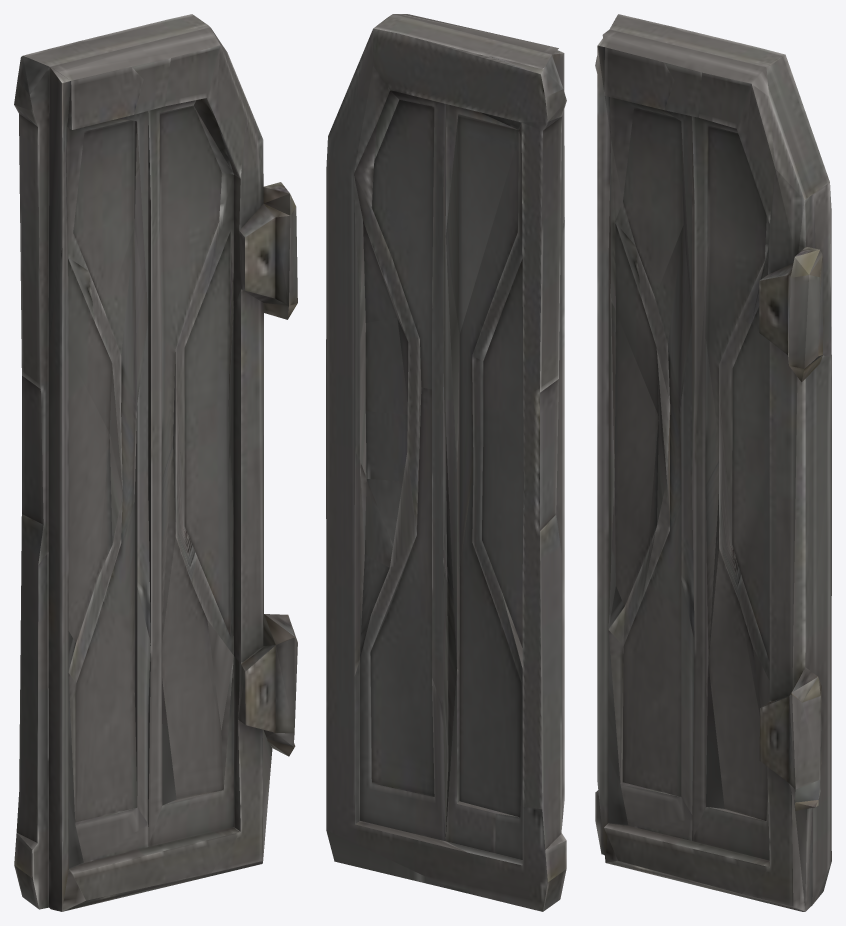
The model's file is imperial_city_wall_tower__entrance_door_right_lod1.glb.
The picture shows the model from 3 angles, left to right: view 1: azimuth 30°, elevation 25°; view 2: azimuth 150°, elevation 25°; view 3: azimuth 330°, elevation 25°; orthographic projection.
Parts seen in each view (by area): view 1: mesh_node; view 2: mesh_node; view 3: mesh_node.
Boxes of the visible parts, <box> form: mesh_node: <box>14,14,297,911</box>; mesh_node: <box>326,14,566,911</box>; mesh_node: <box>595,14,831,911</box>.
Size of the model in its own units: 0.6706 by 2.22 by 0.2408.
Materials: 1 (1 with a texture image).
